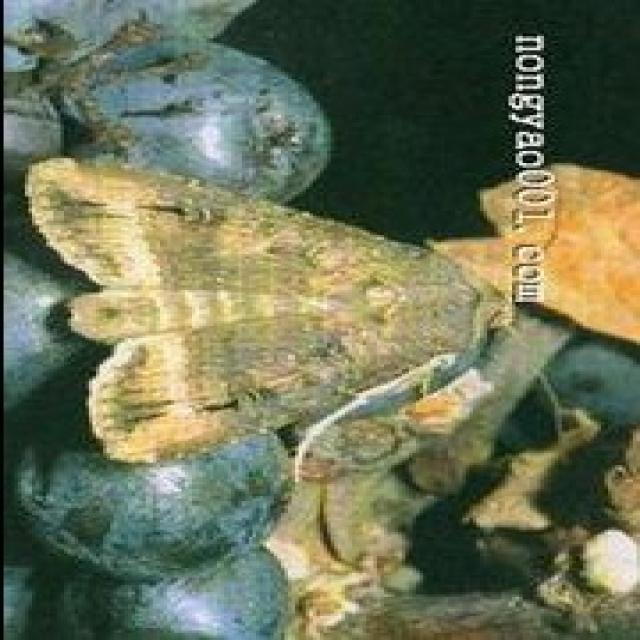black cutworm: (21, 156, 508, 489)
